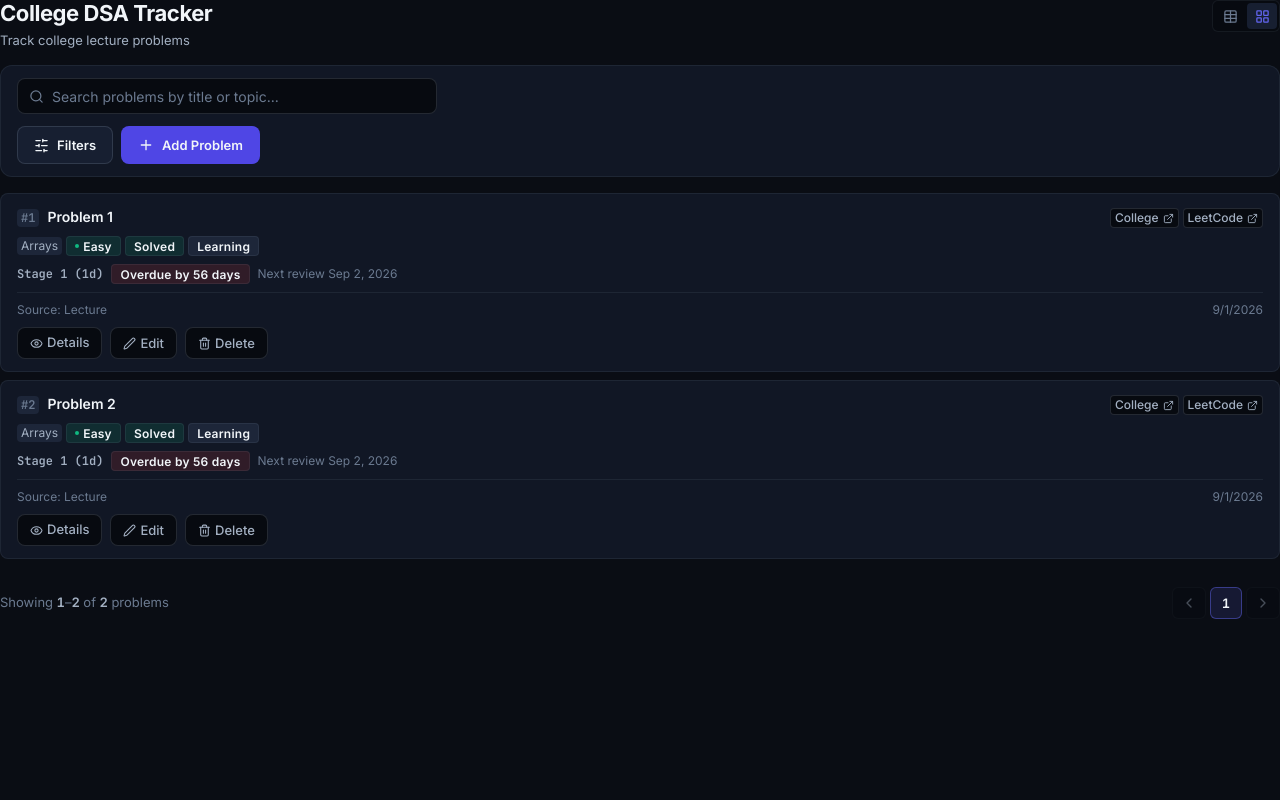
Test case: Phase 6 — Tracker toolbar and mobile filter drawer › applies a filter chosen in the drawer and shows it as still selected when reopened
The width and height of the screenshot is (1280, 800).
Click the button "Filters" at (65, 145), box [17, 126, 113, 164]
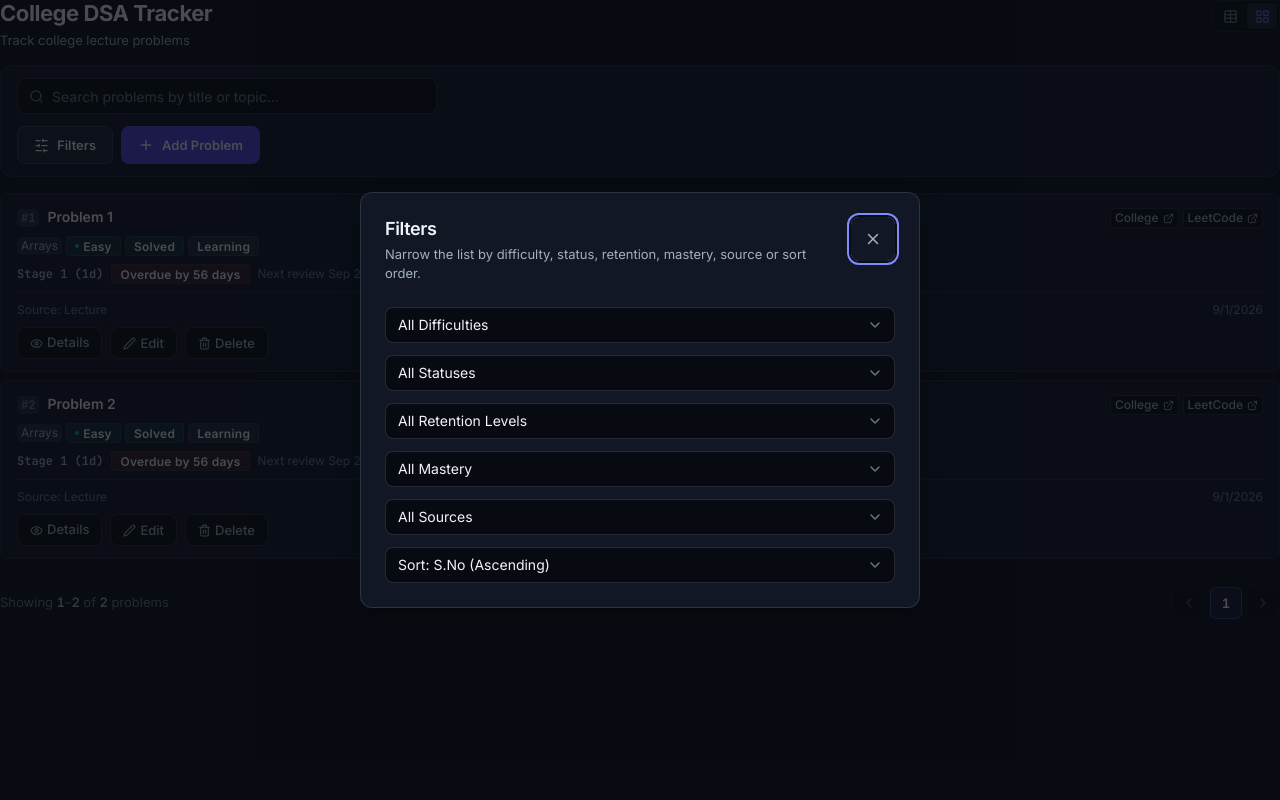
Select "Hard" in the dropdown showing "All Difficulties" at (640, 325), box [385, 307, 895, 343]
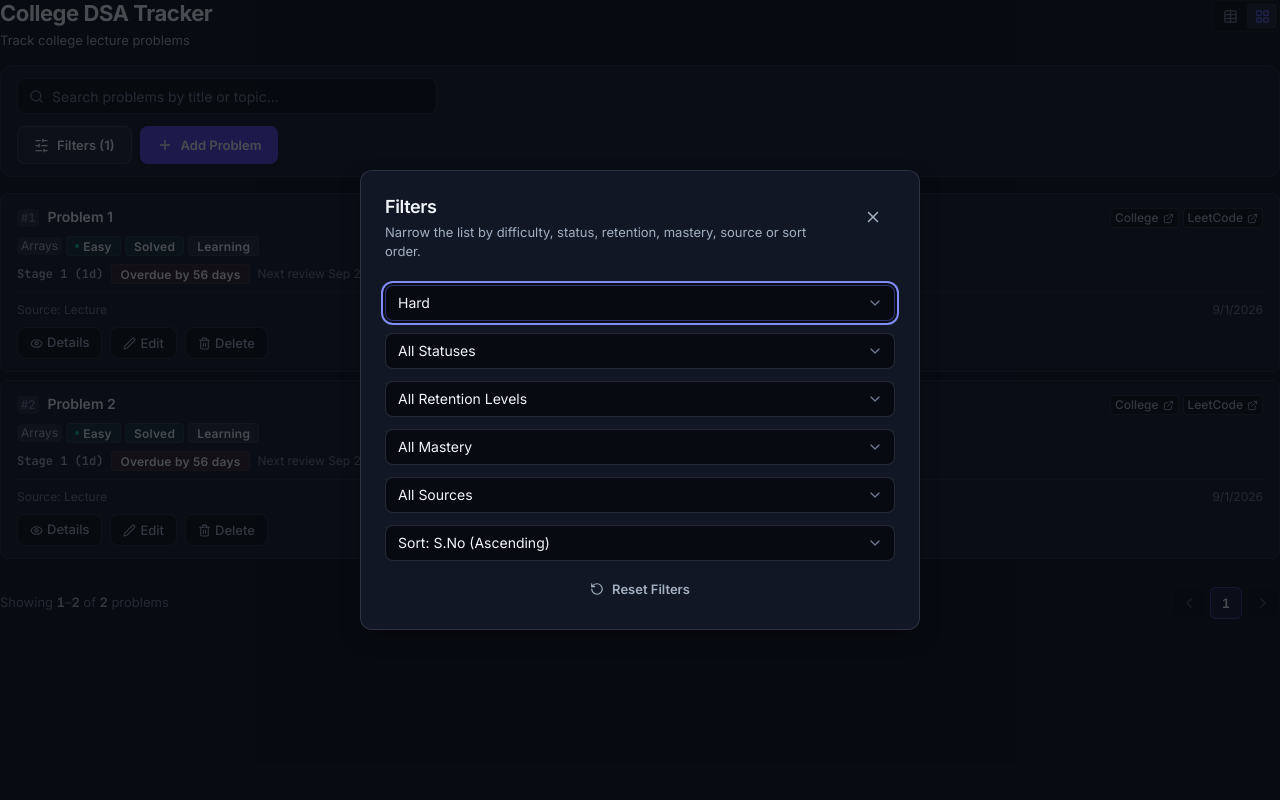
Click the button named "close dialog" at (873, 217), box [851, 195, 895, 239]
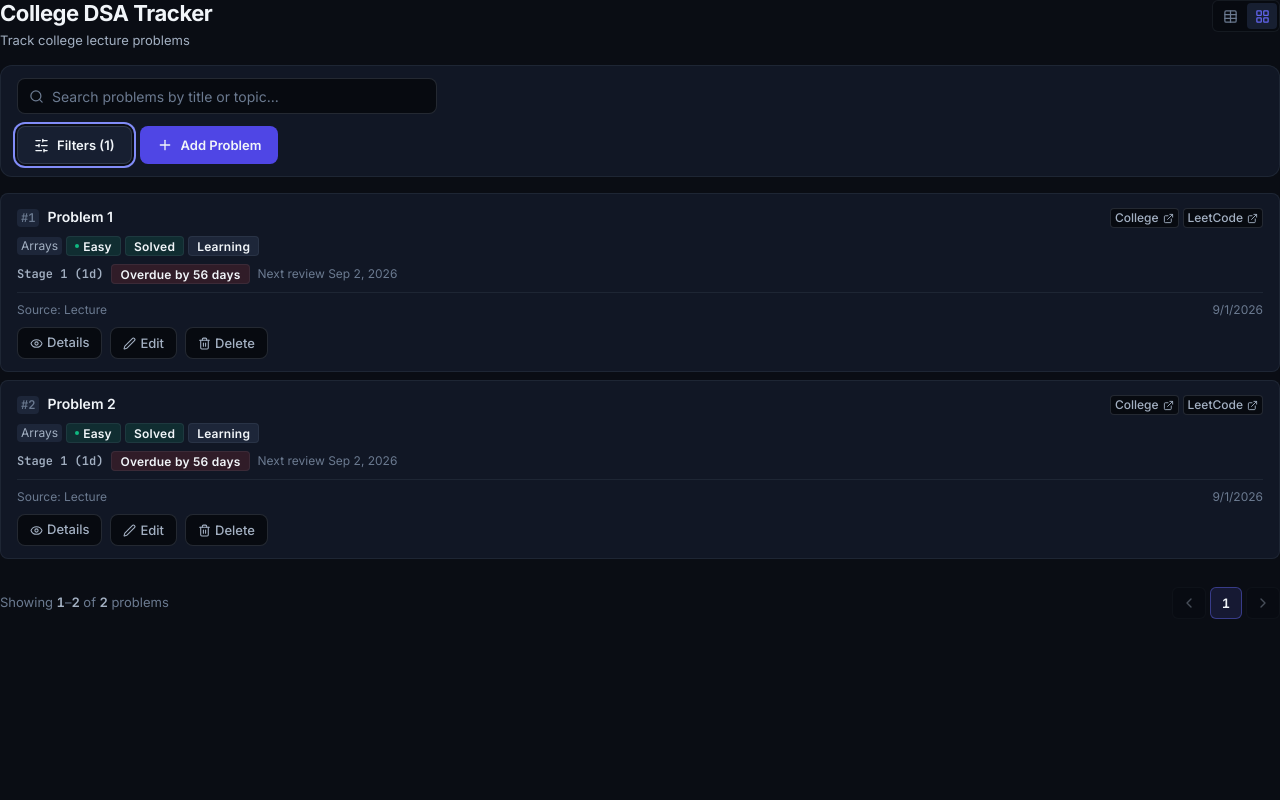
Check: the field showing "Hard" is not shown
Check: the button "Filters (1)" is shown
Click the button "Filters (1)" at (74, 145), box [17, 126, 132, 164]
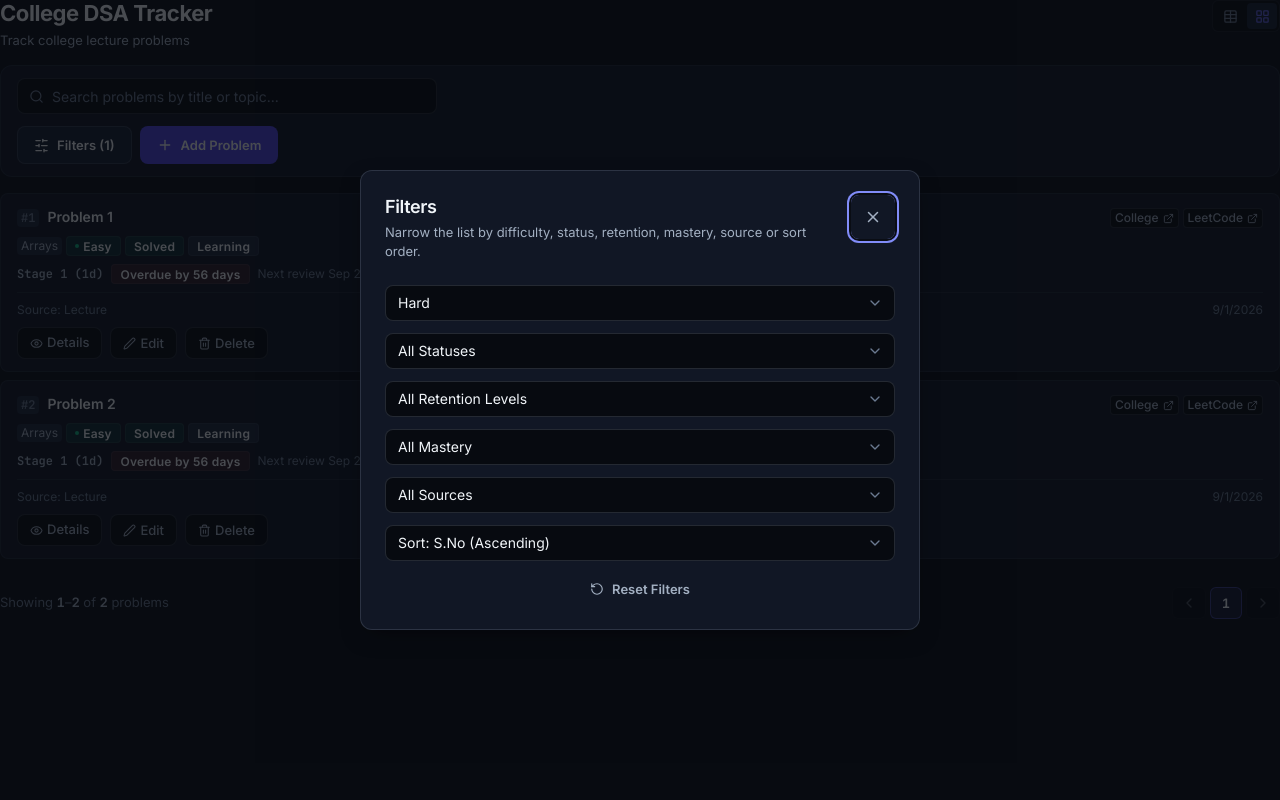
Check: the dropdown showing "Hard" is shown, box [385, 285, 895, 321]
